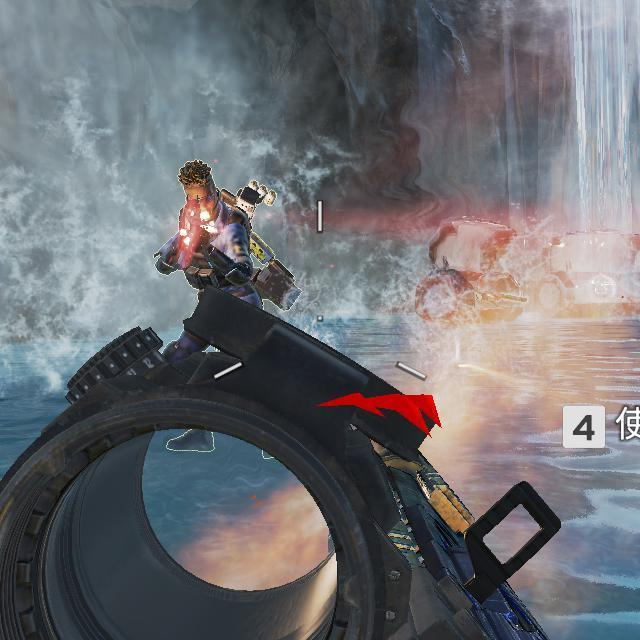avatar: (153, 158, 267, 314)
